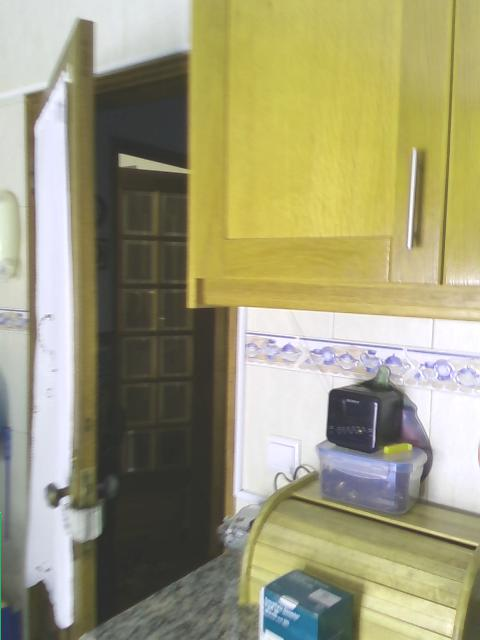semi_door: (20, 15, 241, 639)
